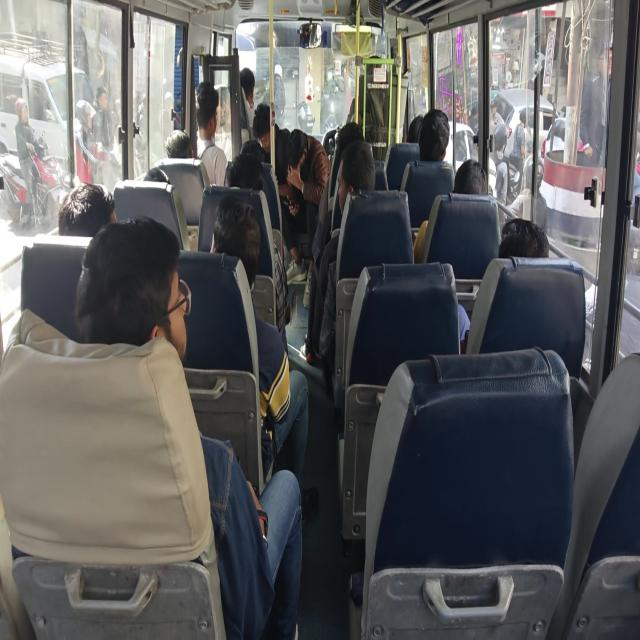person: (74, 215, 303, 638), (210, 195, 312, 519), (315, 140, 376, 384), (458, 216, 549, 348), (413, 158, 488, 263), (284, 128, 330, 282), (576, 38, 613, 167), (14, 97, 44, 228), (286, 128, 330, 206), (195, 80, 227, 186), (57, 182, 116, 236), (498, 217, 550, 259), (73, 99, 97, 184), (418, 108, 450, 162), (490, 124, 509, 205), (92, 85, 114, 151), (453, 158, 488, 196), (252, 102, 271, 162), (239, 66, 255, 130), (164, 128, 193, 158), (274, 64, 286, 130)
